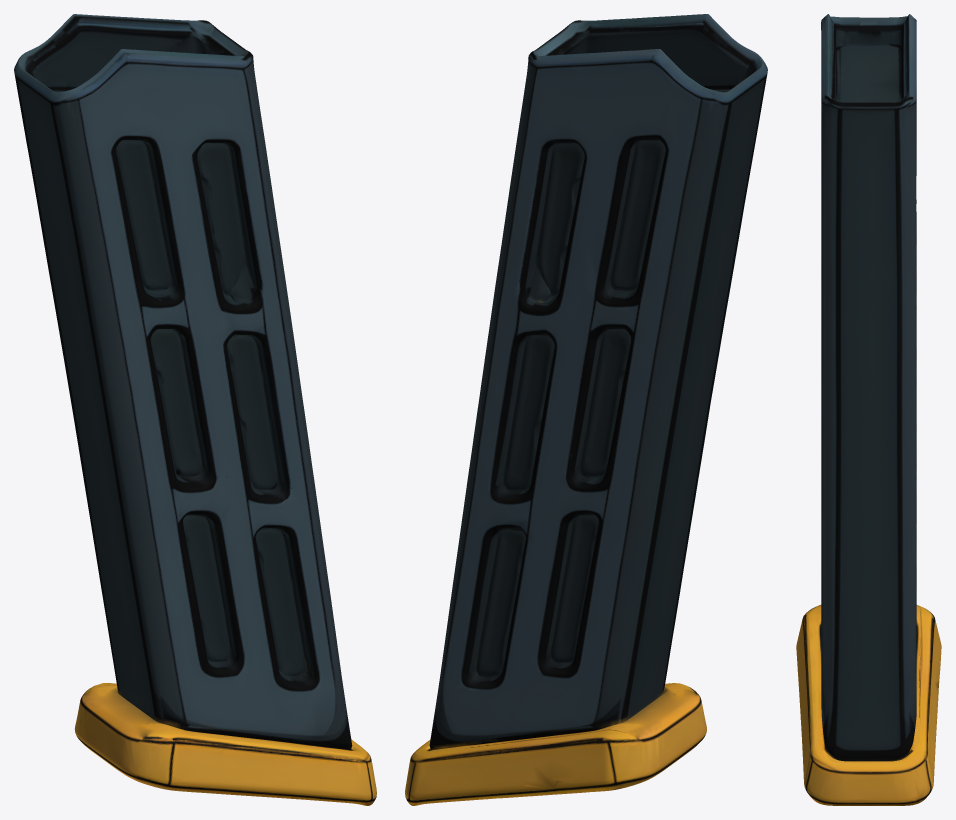
Rendered from WPN-MAG-01.glb.
3 renders of one model, left to right at view 1: azimuth 30°, elevation 25°; view 2: azimuth 150°, elevation 25°; view 3: azimuth 270°, elevation 25°, orthographic. The views are drawn at different scales.
Parts seen in each view (by area): view 1: node_0; view 2: node_0; view 3: node_0.
Part boxes in pixels (x1,y1,x2,y2): node_0: (14,14,376,805); node_0: (405,14,767,805); node_0: (796,14,941,805).
Bounding box in the file's own units: 0.4605 × 1.11 × 0.2122.
1 material, 1 textured.
